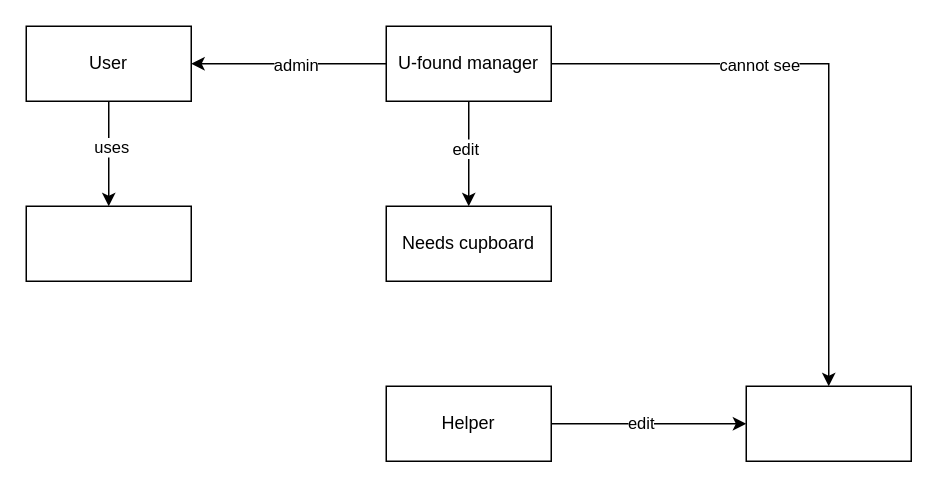
The diagram is 938 pixels wide and 488 high, and some of its shapes have lost their labels. Each missing label, with the centre of its shape:
"Browser" goes at point (108, 243).
"Funding basket" goes at point (828, 423).
